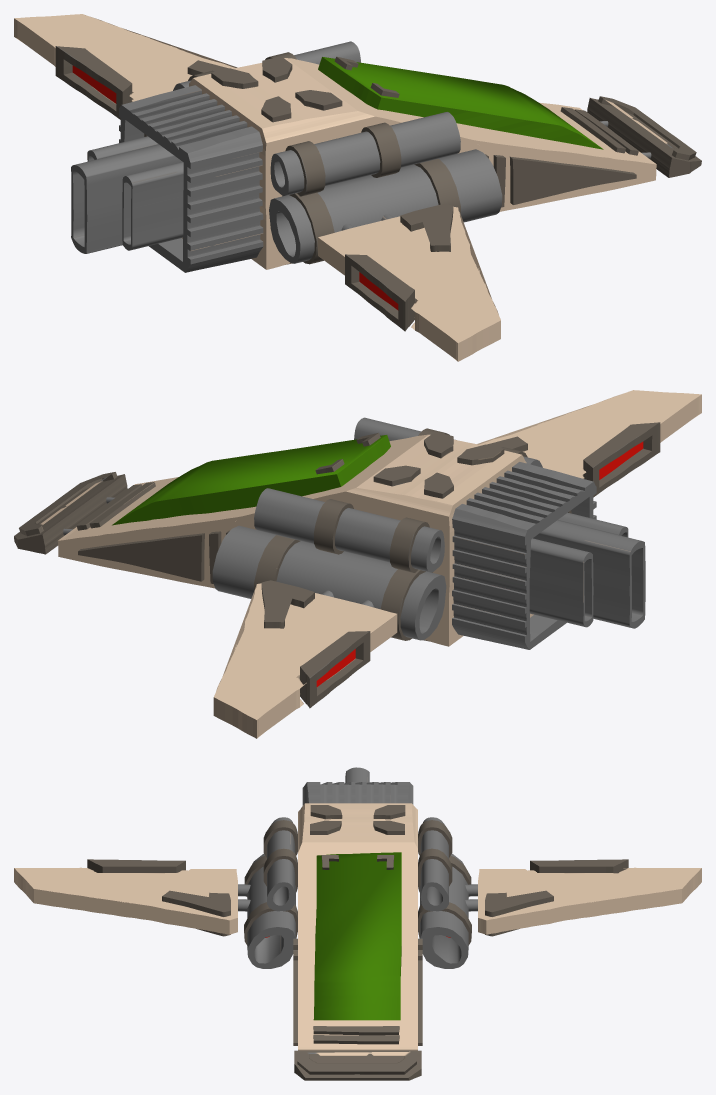
The model's file is ShipFinal.obj.
3 renders of one model, top to bottom at view 1: azimuth 30°, elevation 25°; view 2: azimuth 150°, elevation 25°; view 3: azimuth 270°, elevation 25°, orthographic. The views are drawn at different scales.
Visible parts, largest first — view 1: Ship; view 2: Ship; view 3: Ship.
Part boxes in pixels (x1,y1,x2,y2): Ship: (14,14,701,361); Ship: (14,390,701,738); Ship: (14,767,701,1080).
Bounding box in the file's own units: 15.55 × 3.86 × 20.3.
